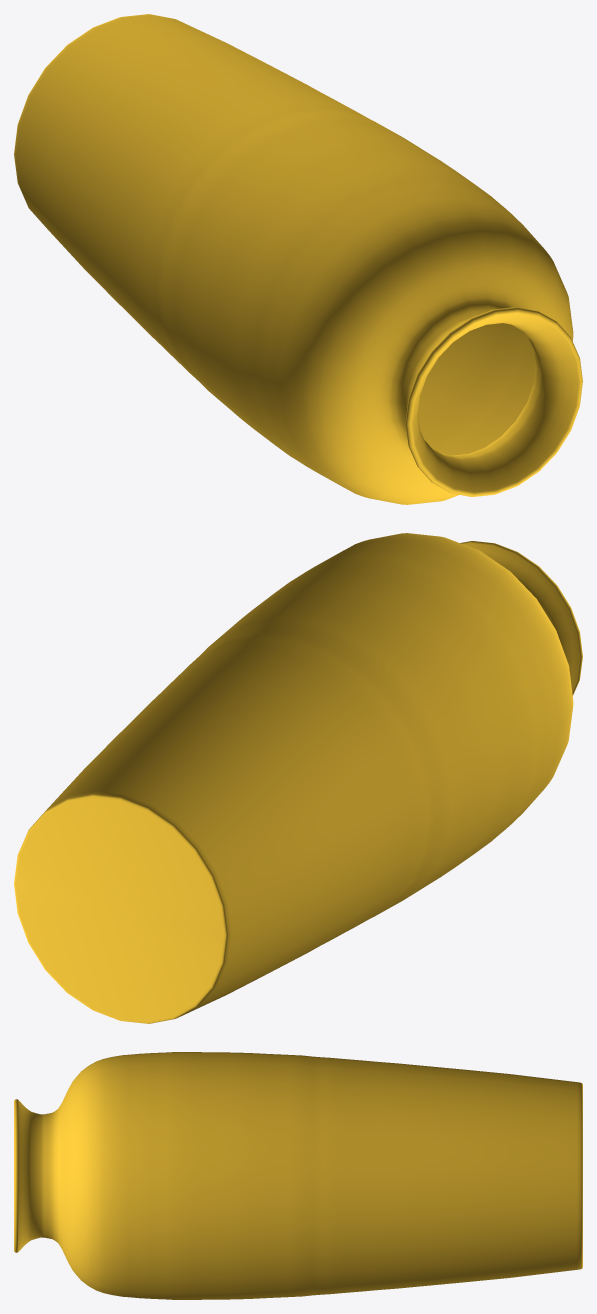
File: model_scale.obj
3 views of the same model, one above another, from view 1: azimuth 30°, elevation 25°; view 2: azimuth 150°, elevation 25°; view 3: azimuth 270°, elevation 25° (orthographic). The views are drawn at different scales.
Parts seen in each view (by area): view 1: mesh1_mesh1-geometry; view 2: mesh1_mesh1-geometry; view 3: mesh1_mesh1-geometry.
Part boxes in pixels (x1=…): mesh1_mesh1-geometry: x1=14, y1=14, x2=582, y2=504; mesh1_mesh1-geometry: x1=14, y1=533, x2=582, y2=1023; mesh1_mesh1-geometry: x1=14, y1=1052, x2=582, y2=1299.
Size of the model in its own units: 0.1124 by 0.1124 by 0.257.
